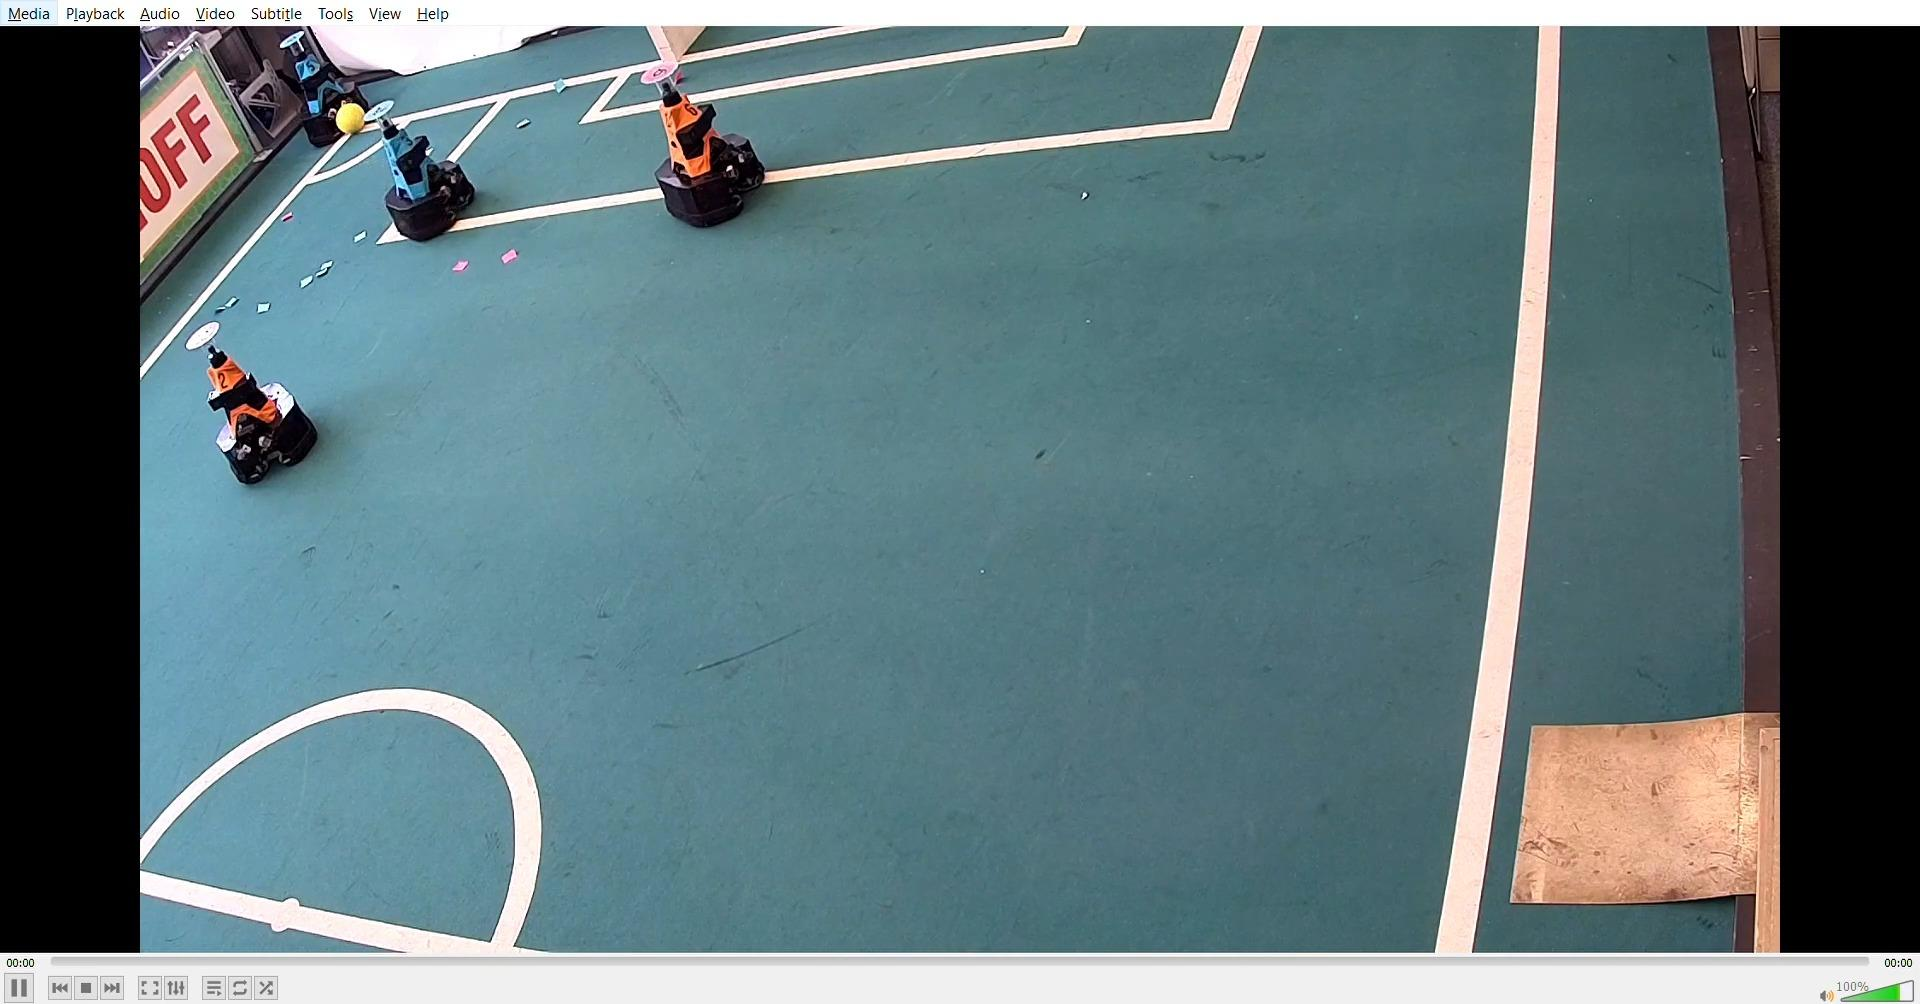Ball: (331, 103, 372, 135)
Team_Blue: (357, 102, 481, 240), (276, 30, 377, 150)
Team_Red: (634, 53, 767, 228), (187, 319, 323, 490)
